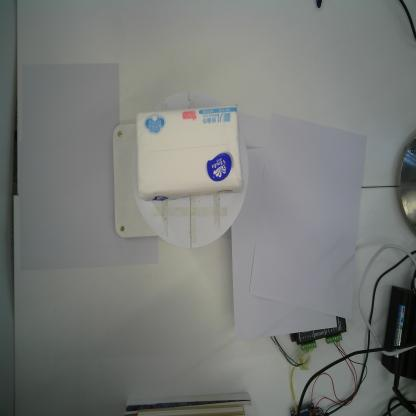Tissue: (136, 104, 244, 202)
